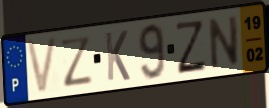9: (136, 22, 167, 83)
K: (103, 29, 132, 83)
N: (208, 13, 240, 72)
V: (24, 34, 60, 96)
Z: (59, 34, 94, 89), (175, 19, 208, 76)
